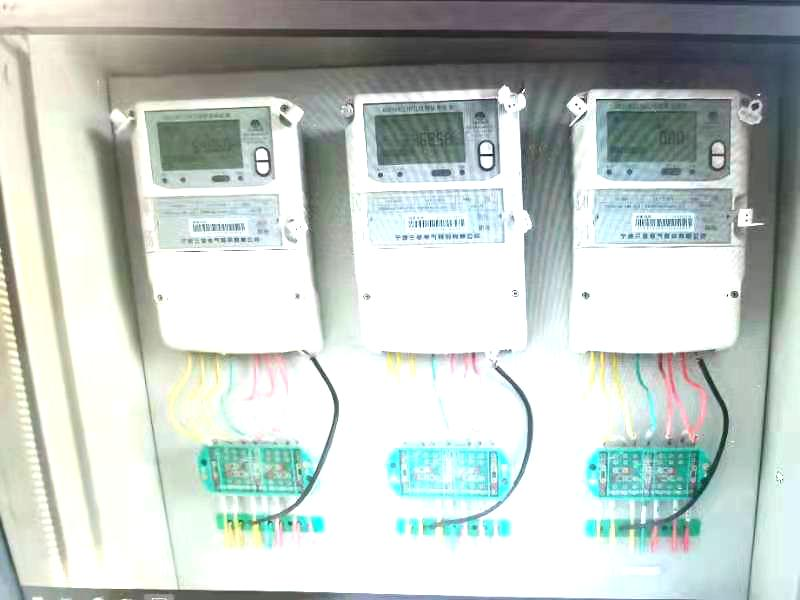digital: (346, 88, 528, 354), (568, 88, 748, 352), (131, 98, 315, 352)
